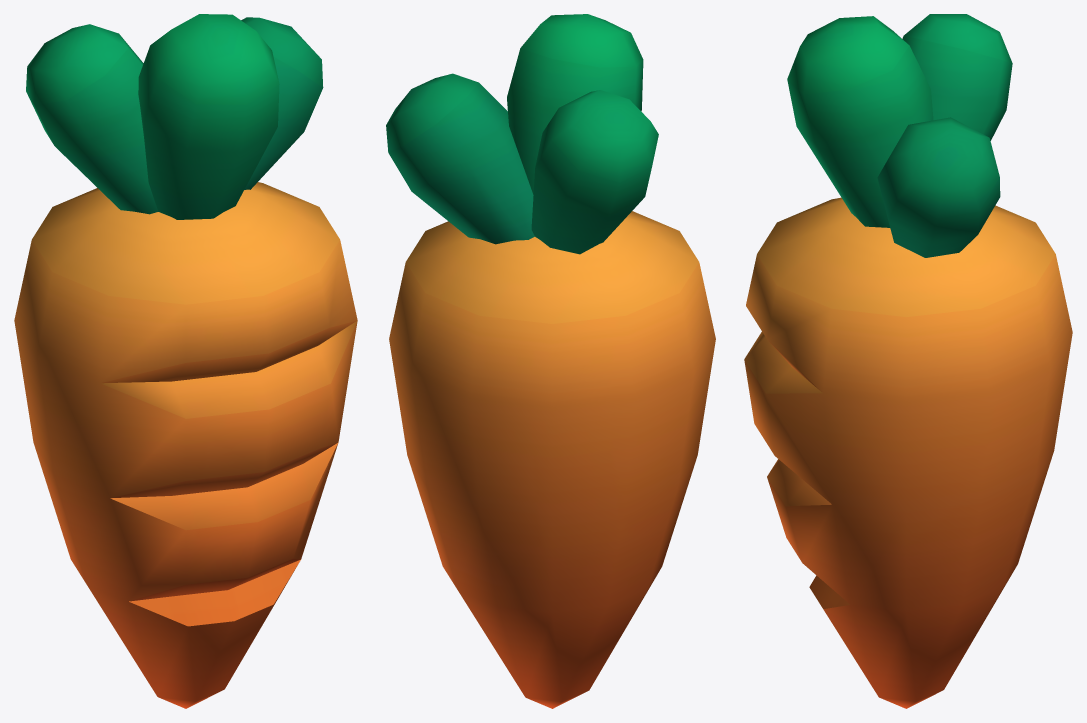
Rendered from food_ingredient_carrot.glb.
The picture shows the model from 3 angles, left to right: view 1: azimuth 30°, elevation 25°; view 2: azimuth 150°, elevation 25°; view 3: azimuth 270°, elevation 25°; orthographic projection. The views are drawn at different scales.
Visible parts, largest first — view 1: food_ingredient_carrot; view 2: food_ingredient_carrot; view 3: food_ingredient_carrot.
Boxes of the visible parts, x1,y1,x2,y2 form: food_ingredient_carrot: (14,14,357,708); food_ingredient_carrot: (386,14,715,708); food_ingredient_carrot: (744,14,1072,708).
Bounding box in the file's own units: 0.56 × 1.27 × 0.5529.
1 material, 1 textured.
